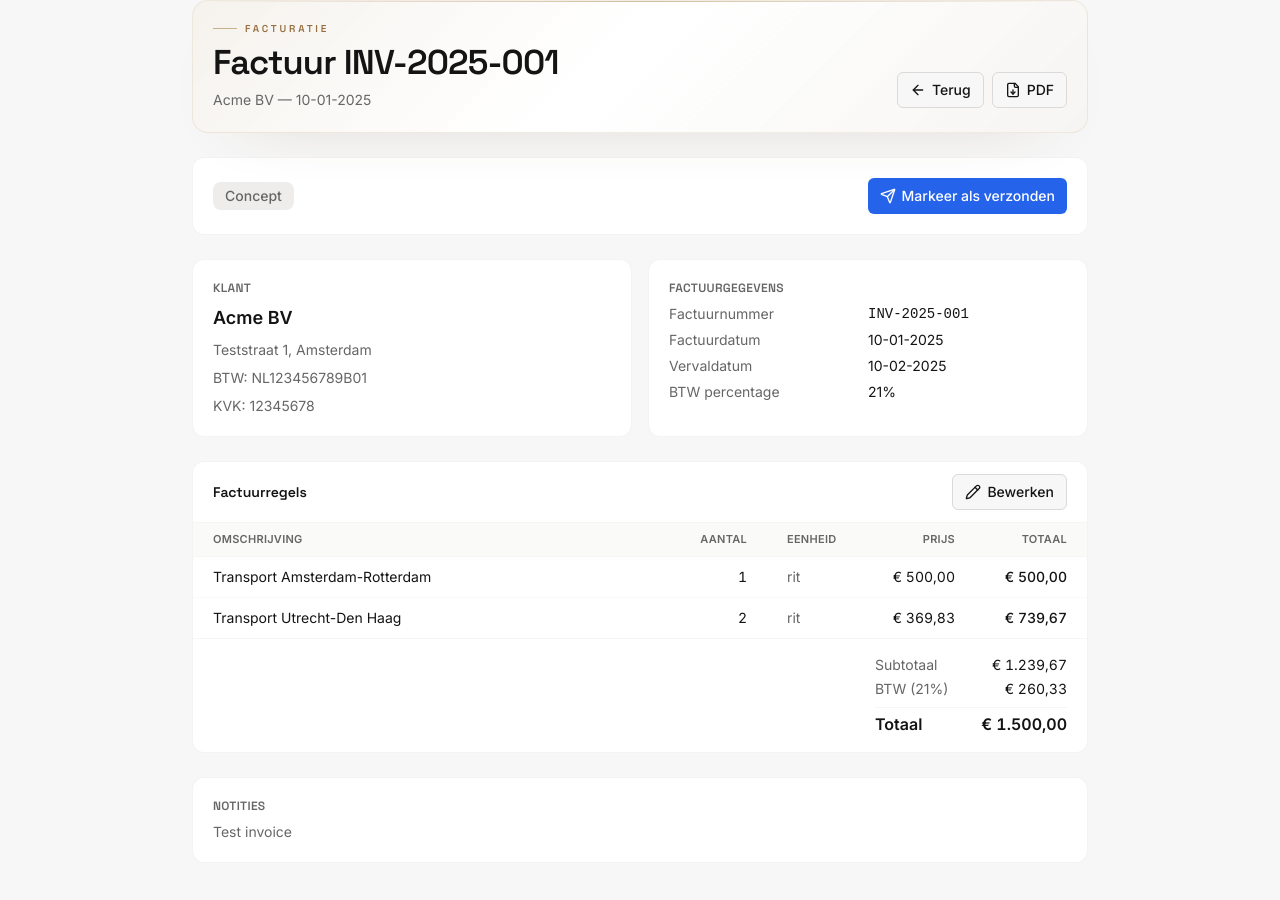
Test: FacturatieDetail › adds a new line when clicking Regel toevoegen (addNewLine)
Step 1. Click the button "Bewerken" → (1010, 492), box [952,474,1067,510]
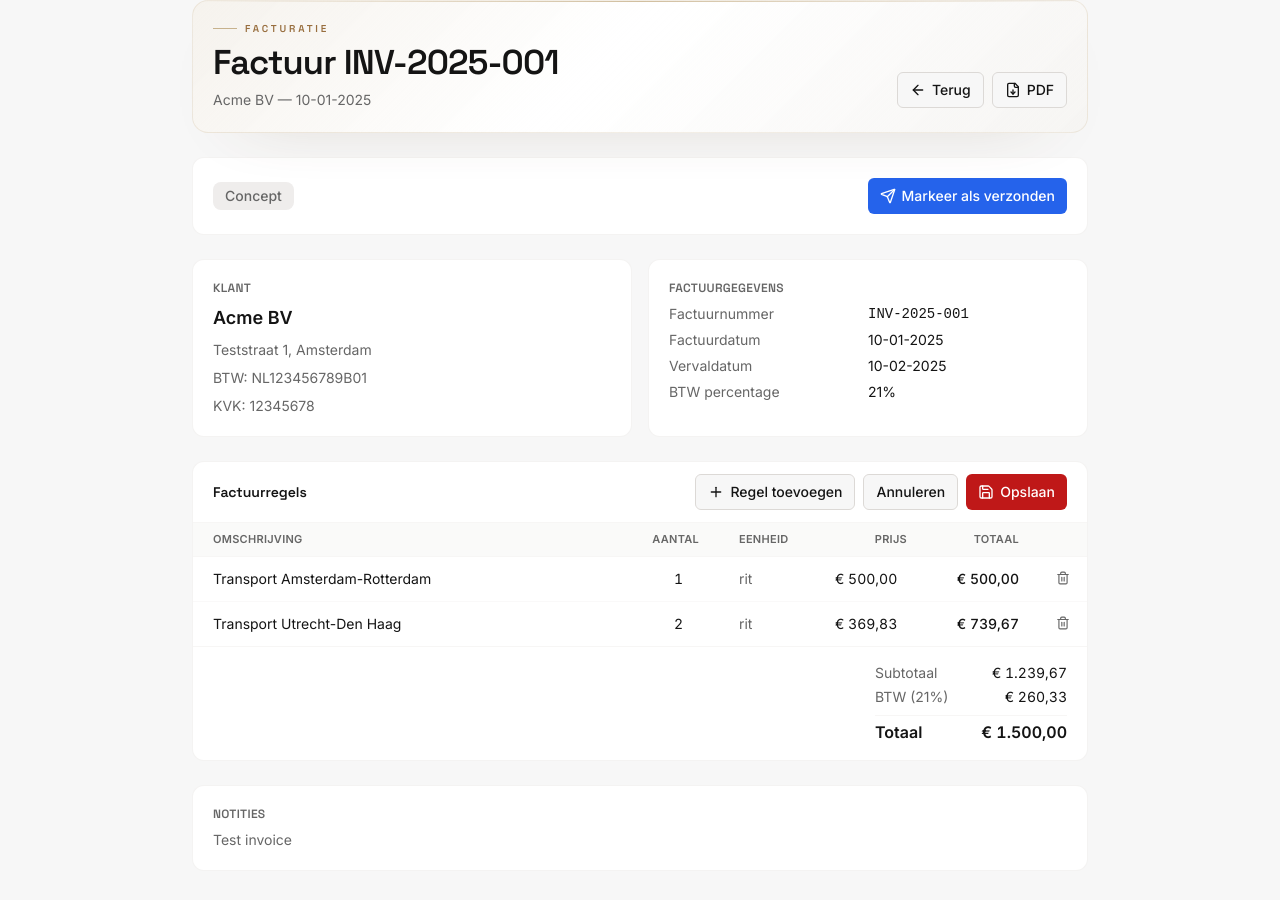
Check: the button "Regel toevoegen" is shown
Step 2. Click the button "Regel toevoegen" → (775, 492), box [695,474,856,510]
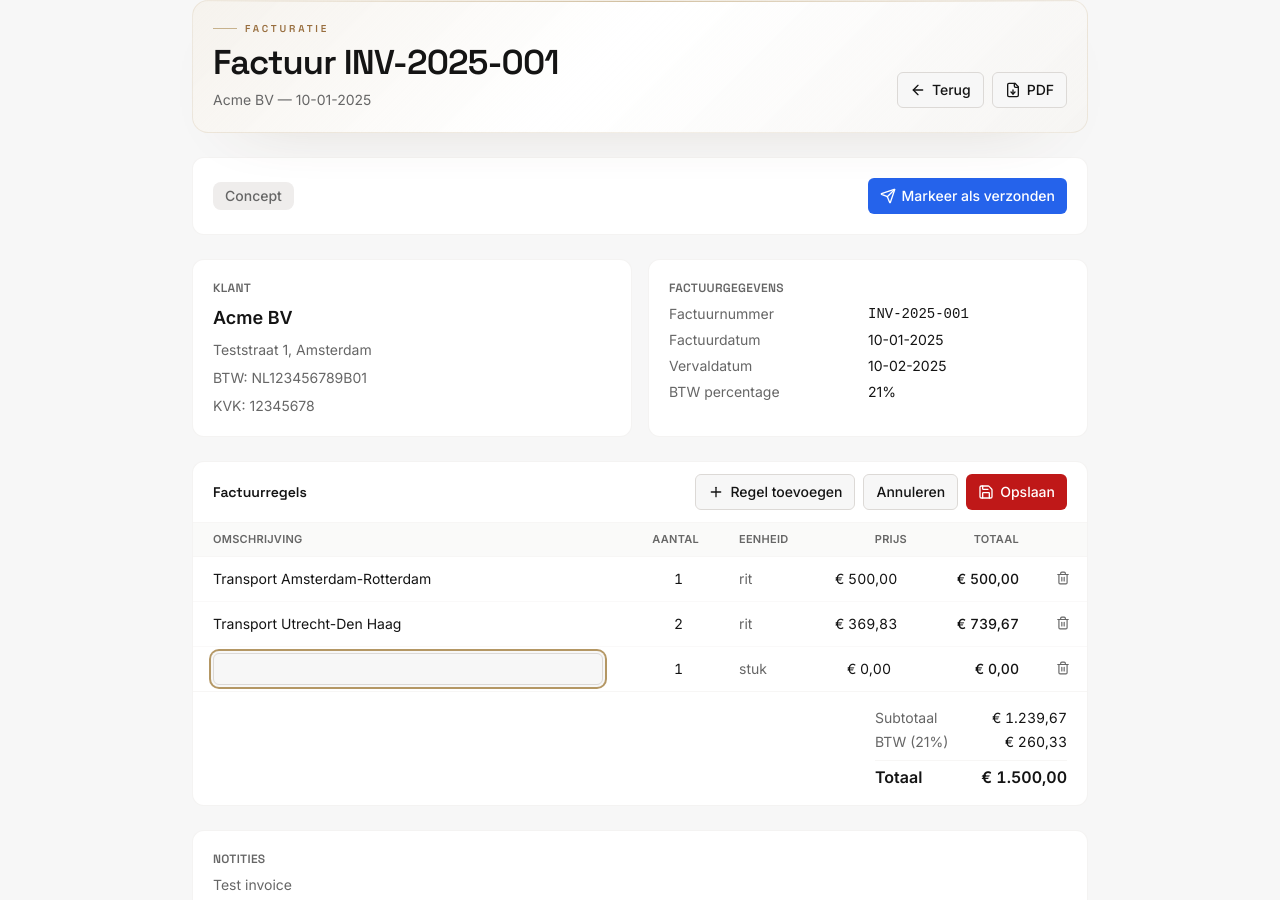
Check: the field is shown, box [213,653,603,685]
